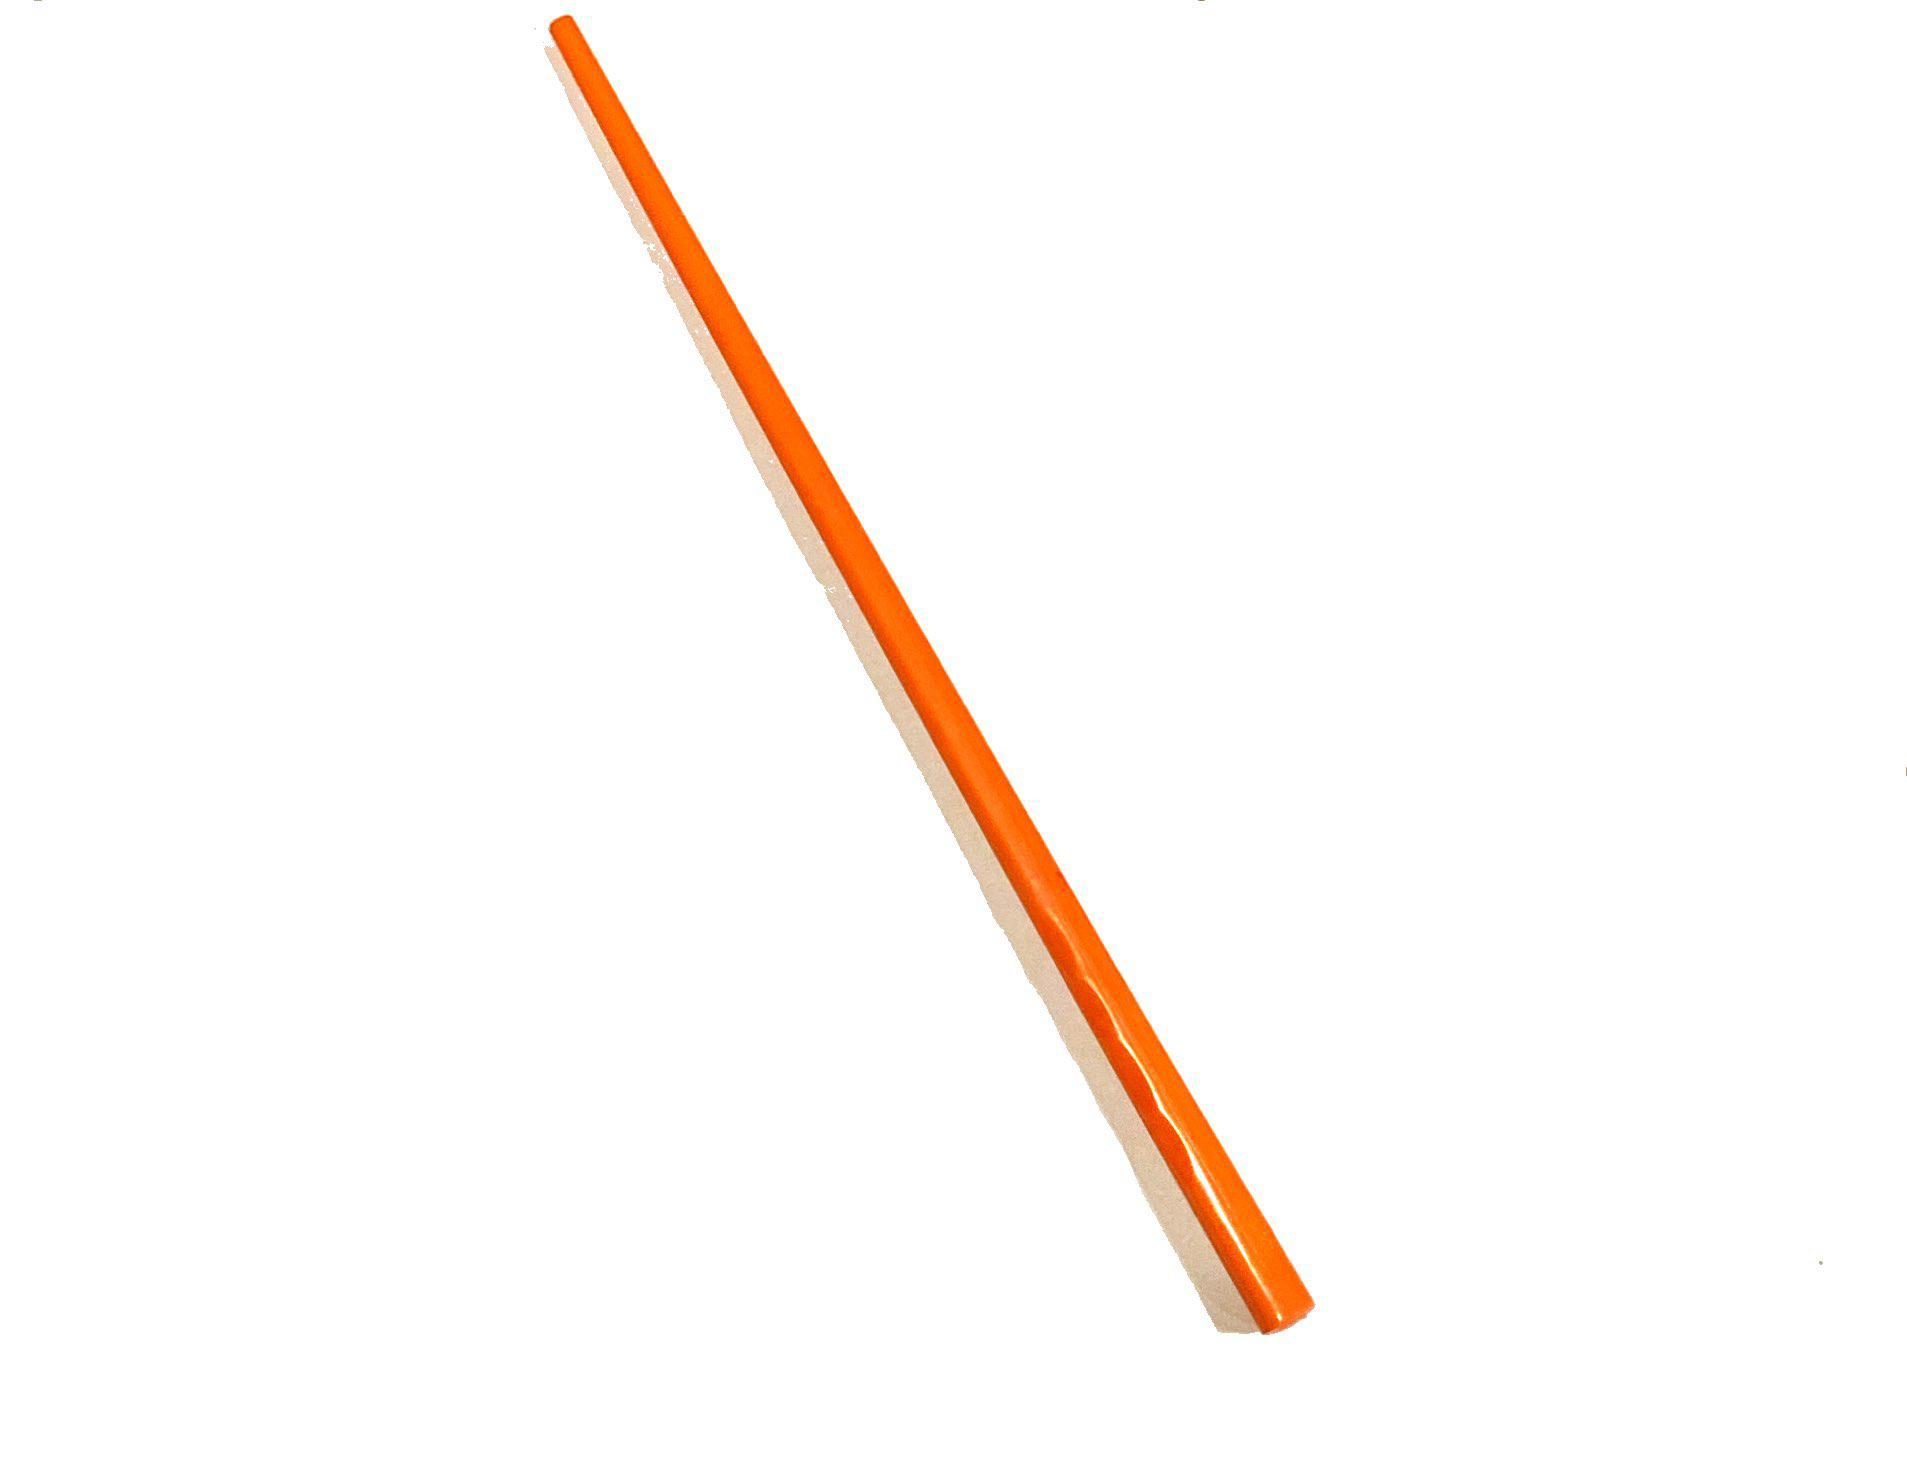Chopstick: (462, 8, 1491, 1376)
